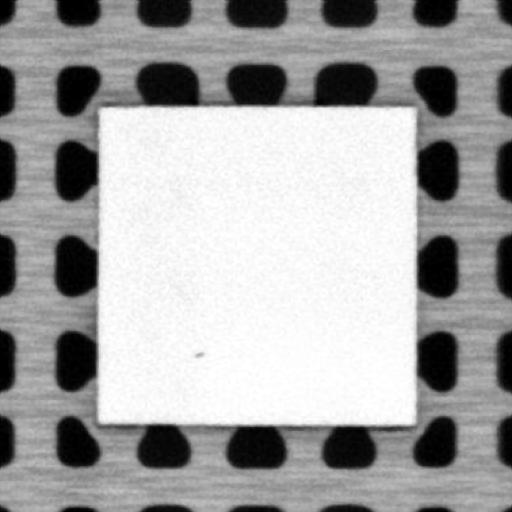DIE_INK: (190, 343, 206, 358)
